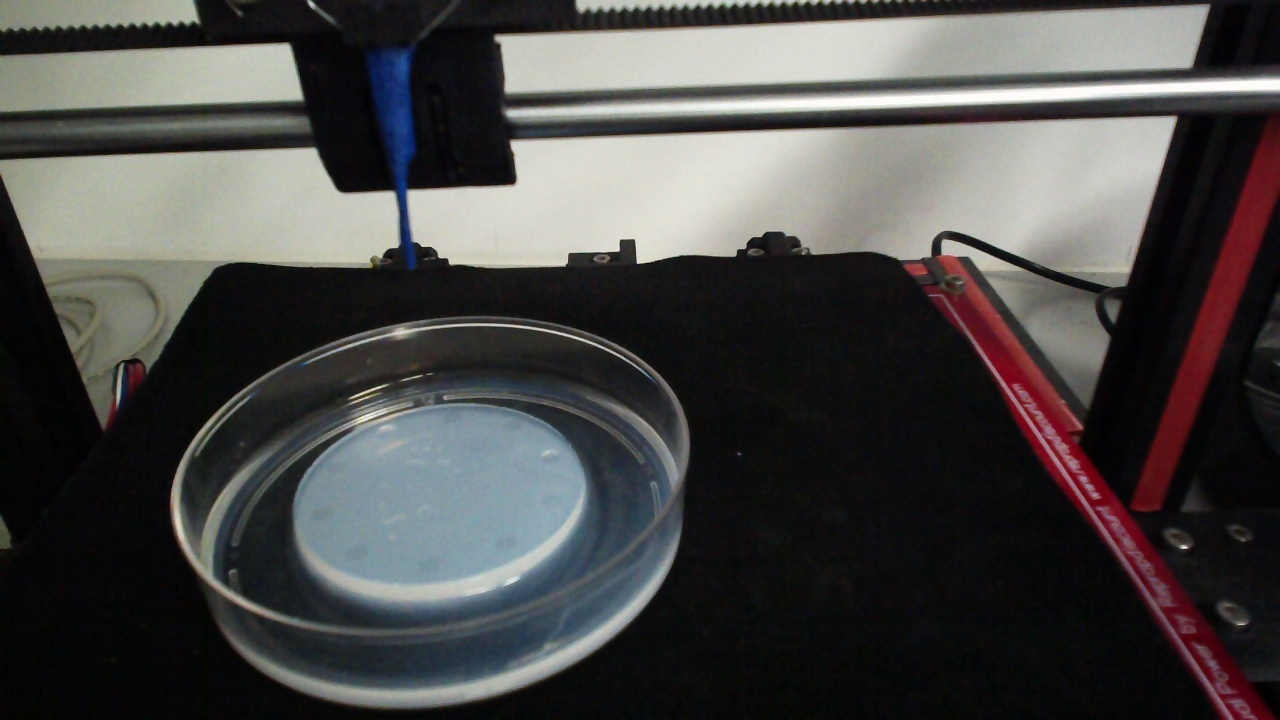groove: (414, 552, 446, 575), (340, 540, 369, 563), (493, 532, 519, 555), (309, 502, 336, 523), (541, 489, 567, 510), (439, 406, 463, 426), (537, 447, 562, 466), (374, 424, 397, 442), (502, 415, 522, 434), (326, 460, 350, 475)
needle: (374, 51, 415, 266)
